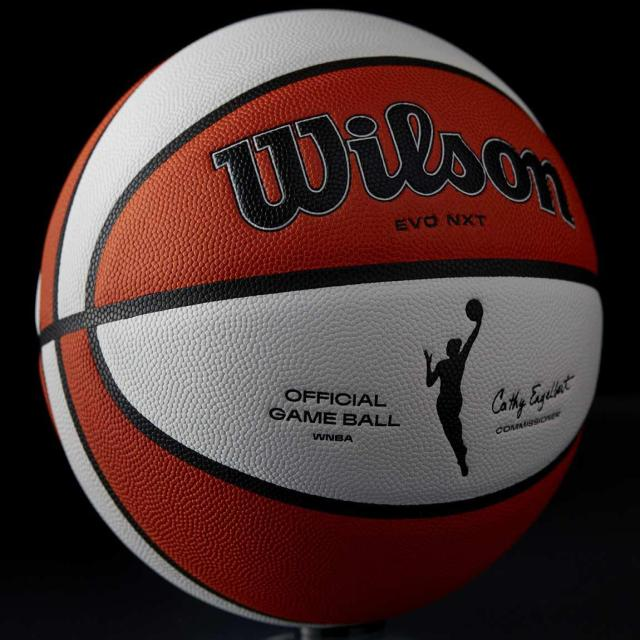ball: (29, 3, 607, 632)
